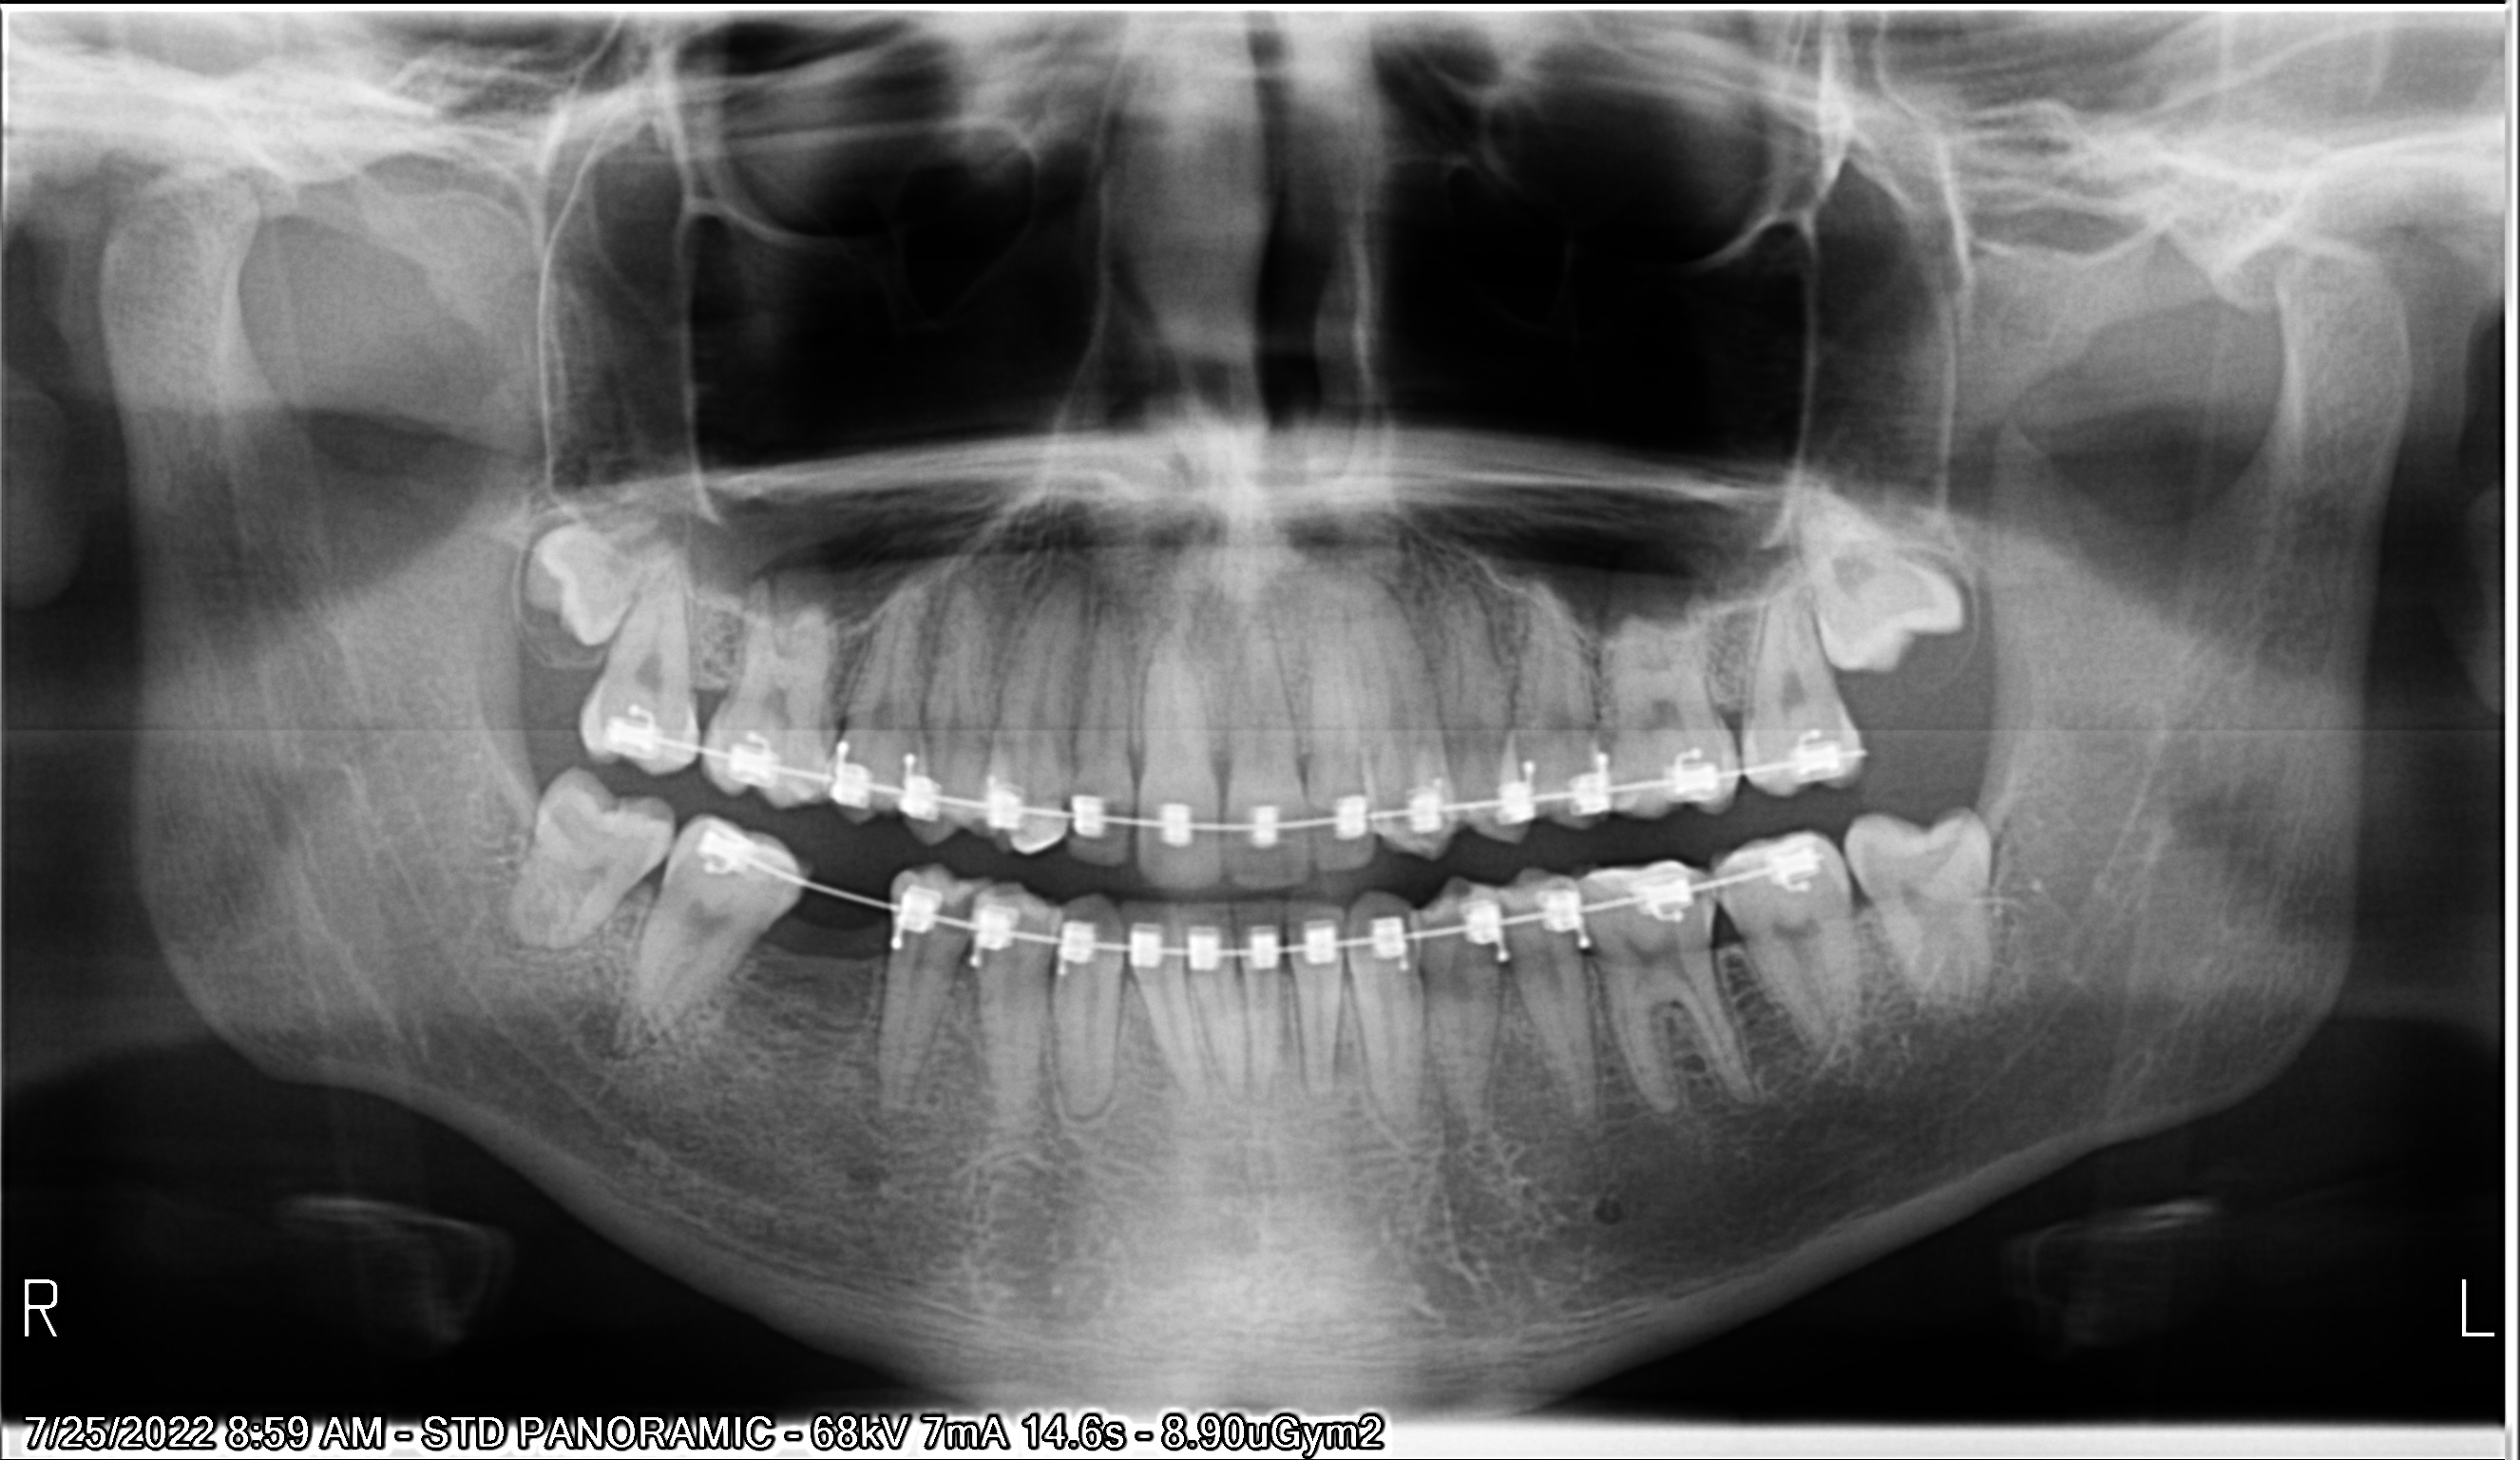IMT: (1789, 485, 1968, 680), (1848, 808, 1999, 1017), (512, 509, 639, 643)
ORD: (872, 761, 1487, 846), (1492, 714, 1860, 831), (587, 704, 875, 808), (1056, 899, 1398, 968), (872, 864, 1061, 965), (1417, 886, 1610, 959), (1624, 853, 1824, 923), (686, 819, 806, 895)
